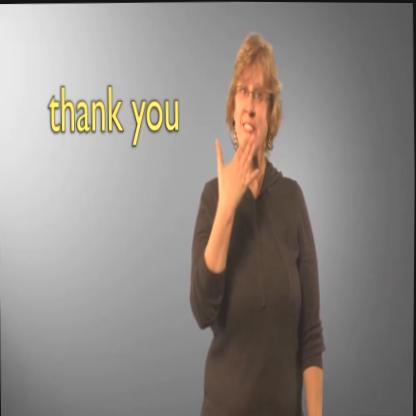ThankYou: (210, 25, 301, 235)
